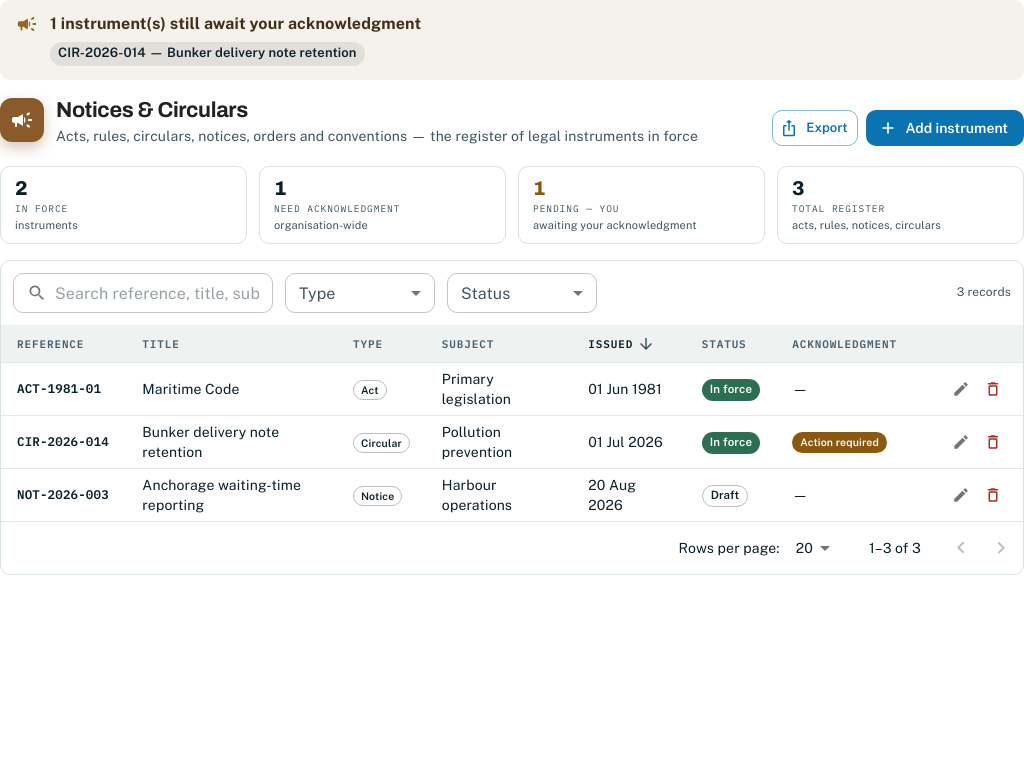
Notices & Circulars register › puts a draft in force from the governance panel
Click the text "Anchorage waiting-time reporting".
click(232, 495)  # box [126,469,337,522]
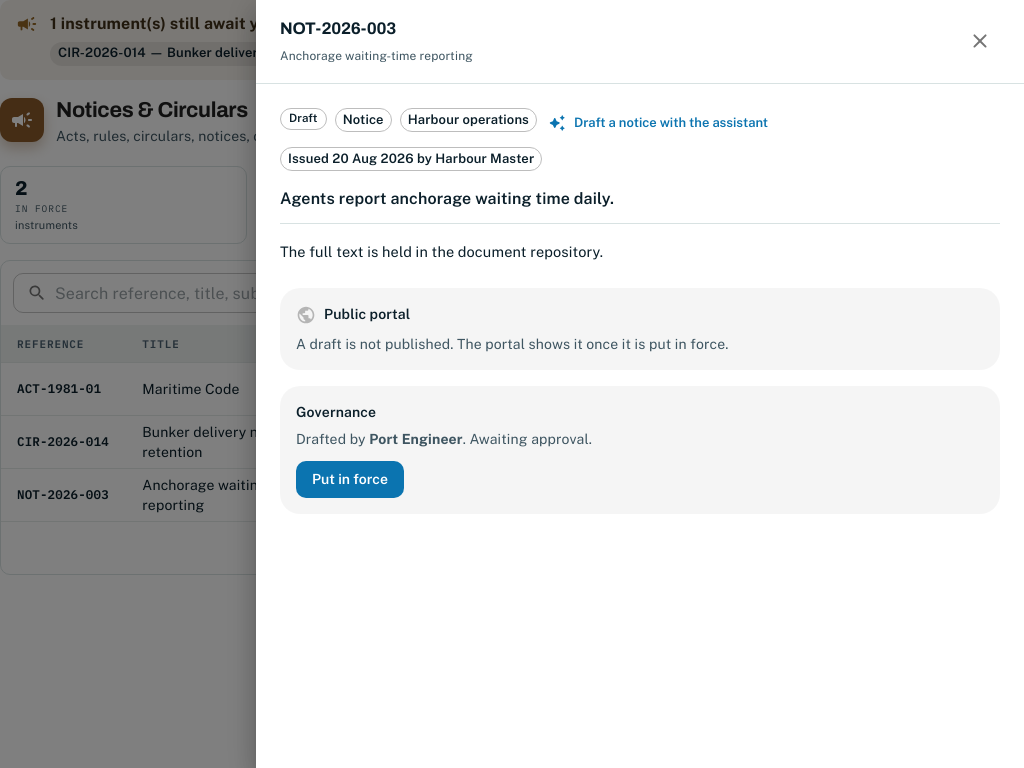
Expected: the heading "NOT-2026-003" is shown, [280,19,396,38]
Expected: the text "Drafted by Port Engineer. Awaiting approval." is shown, [296,431,592,447]
Click the button "Put in force".
click(350, 479)  # box [296,461,404,498]
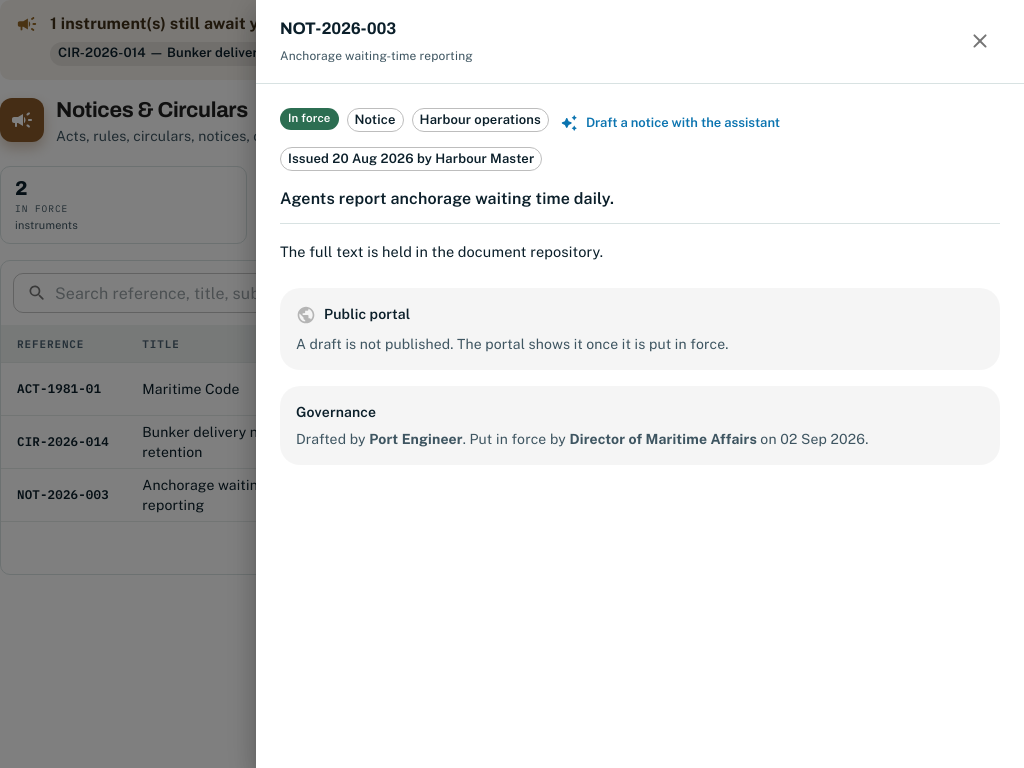
Expected: the text "Director of Maritime Affairs" is shown, [570,431,757,447]
